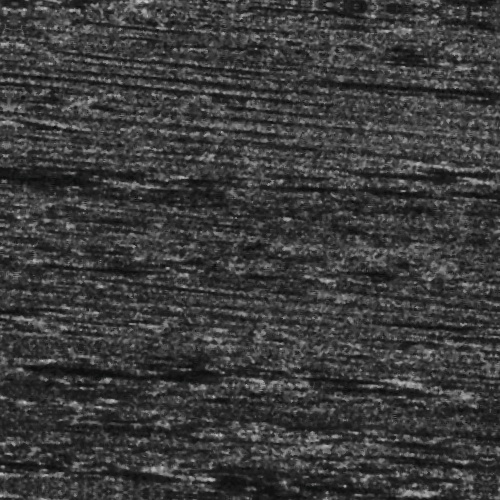object: (120, 471, 297, 488), (190, 370, 335, 387), (378, 473, 483, 488), (0, 480, 54, 487), (95, 2, 126, 7), (491, 309, 500, 314)
shadow: (69, 370, 262, 387), (23, 471, 208, 488), (330, 473, 431, 488), (0, 2, 110, 7), (396, 309, 500, 314)
